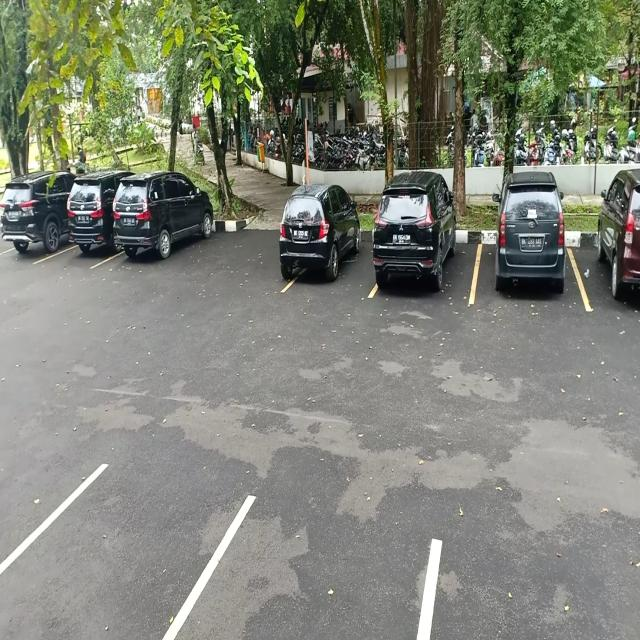empty: (23, 462, 209, 640), (210, 500, 434, 640)
occupied: (472, 218, 578, 308), (372, 218, 472, 302), (281, 212, 372, 299), (581, 202, 640, 313), (0, 184, 56, 265), (58, 193, 110, 269)
